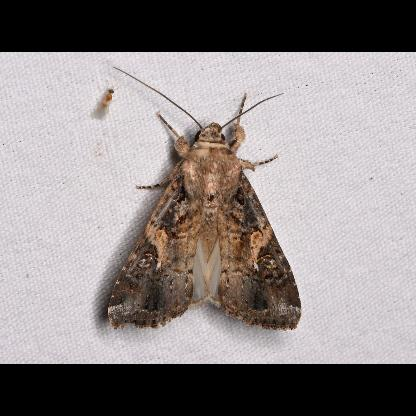Fall Armyworm Moth: (105, 65, 305, 333)
